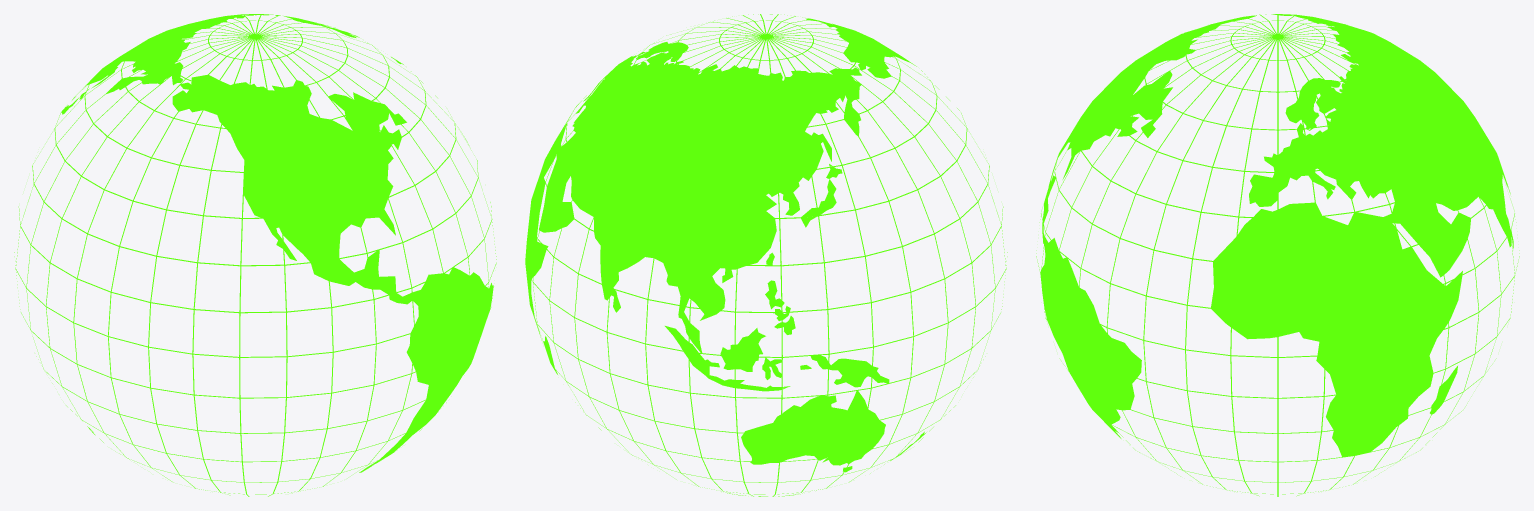
File: earth_hologram.glb
3 renders of one model, left to right at view 1: azimuth 30°, elevation 25°; view 2: azimuth 150°, elevation 25°; view 3: azimuth 270°, elevation 25°, orthographic.
Visible parts, largest first — view 1: Sphere.002_0; view 2: Sphere.002_0; view 3: Sphere.002_0.
Boxes of the visible parts, x1,y1,x2,y2 form: Sphere.002_0: [14, 14, 496, 496]; Sphere.002_0: [525, 14, 1007, 496]; Sphere.002_0: [1036, 14, 1519, 496].
Bounding box in the file's own units: 2 × 2 × 2.
